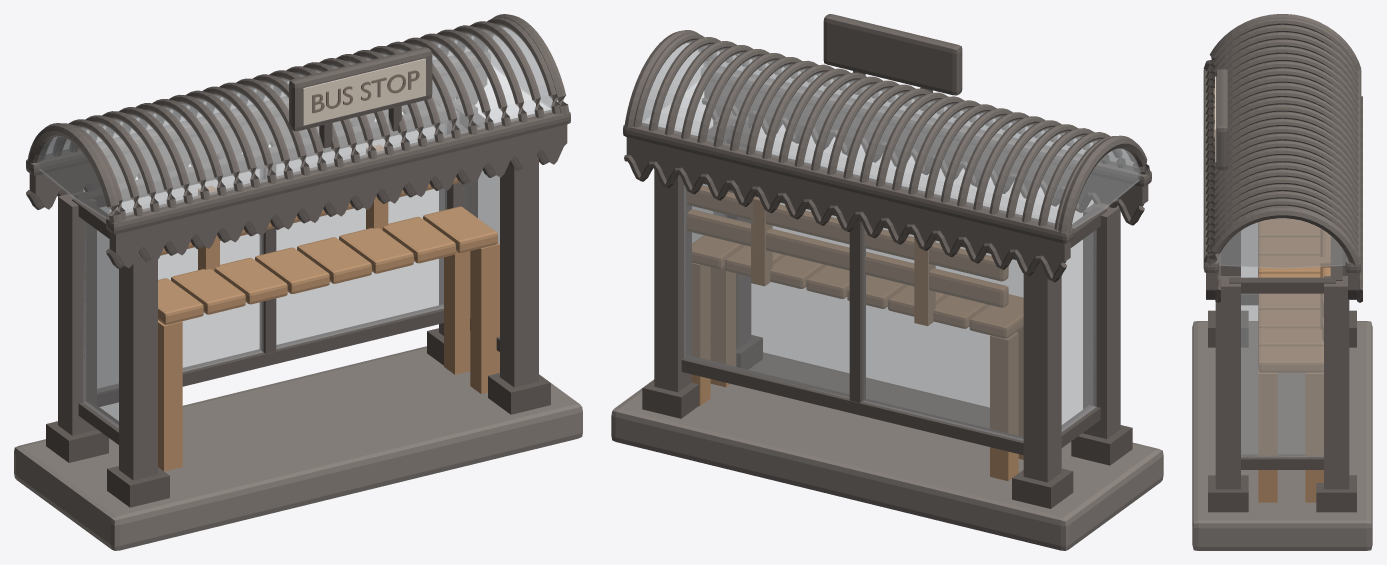
File: 34-bus-stop-shelter-bs5.glb
3 views of the same model, side by side, from view 1: azimuth 30°, elevation 25°; view 2: azimuth 150°, elevation 25°; view 3: azimuth 270°, elevation 25° (orthographic). The views are drawn at different scales.
Visible parts, largest first — view 1: Plinth, BackGlass, VaultSkin, Valance_Front, Post_+1-1, Post_-1+1, Post_-1-1, EaveRail_Front, SideGlass_L, BackBotRail, Valance_Back, BenchLeg_1 (+47 smaller); view 2: BackGlass, Plinth, VaultSkin, Valance_Back, Post_-1-1, Post_-1+1, Post_+1+1, SignBoard, EaveRail_Back, BackSlat_0, BackBotRail, SideGlass_L (+56 smaller); view 3: Plinth, SideGlass_R, Post_+1+1, Post_+1-1, EndGlass_EndR, BenchLeg_1, EndFrame_EndR, BenchLeg_3, SeatSlat_7, SideTopRail_R, SignBoard, SideBotRail_R (+48 smaller).
Part boxes in pixels (x1,y1,x2,y2): Plinth: [14, 346, 582, 550]; BackGlass: [97, 123, 446, 392]; VaultSkin: [45, 24, 558, 215]; Valance_Front: [109, 124, 567, 268]; Post_+1-1: [500, 154, 538, 387]; Post_-1+1: [58, 191, 96, 435]; Post_-1-1: [119, 249, 157, 480]; EaveRail_Front: [106, 110, 570, 234]; SideGlass_L: [83, 220, 118, 428]; BackBotRail: [97, 304, 443, 406]; Valance_Back: [29, 67, 486, 209]; BenchLeg_1: [470, 243, 499, 393]; BackGlass: [684, 184, 1023, 440]; Plinth: [611, 352, 1163, 550]; VaultSkin: [641, 40, 1140, 225]; Valance_Back: [626, 137, 1070, 274]; Post_-1-1: [1083, 203, 1120, 438]; Post_-1+1: [1023, 263, 1061, 482]; Post_+1+1: [654, 170, 691, 392]; SignBoard: [823, 14, 962, 95]; EaveRail_Back: [623, 123, 1074, 243]; BackSlat_0: [687, 209, 1008, 307]; BackBotRail: [681, 355, 1023, 455]; SideGlass_L: [1061, 230, 1096, 431]; Plinth: [1192, 321, 1372, 550]; SideGlass_R: [1241, 293, 1323, 457]; Post_+1+1: [1324, 276, 1349, 489]; Post_+1-1: [1215, 276, 1240, 489]; EndGlass_EndR: [1217, 218, 1347, 268]; BenchLeg_1: [1258, 371, 1277, 502]; EndFrame_EndR: [1203, 207, 1361, 265]; BenchLeg_3: [1305, 372, 1323, 502]; SeatSlat_7: [1258, 346, 1323, 372]; SideTopRail_R: [1229, 277, 1335, 293]; SignBoard: [1216, 69, 1228, 170]; SideBotRail_R: [1241, 454, 1323, 469].
Bounding box in the file's own units: 4 × 3.35 × 1.5.
